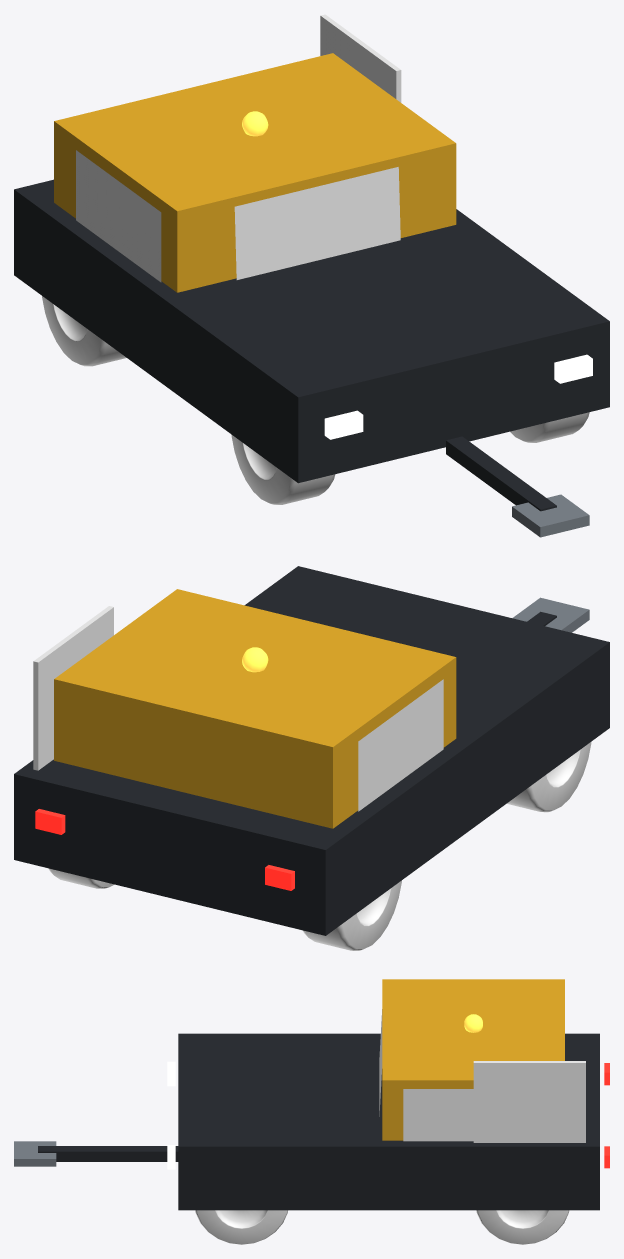
The model's file is equipment--pushbackTug.glb.
3 renders of one model, top to bottom at view 1: azimuth 30°, elevation 25°; view 2: azimuth 150°, elevation 25°; view 3: azimuth 270°, elevation 25°, orthographic. The views are drawn at different scales.
Visible parts, largest first — view 1: pushbackTug:shell, towbarArm, wheelsF, cabDoor, wheelsR, headlights; view 2: pushbackTug:shell, cabDoor, wheelsR, wheelsF, towbarArm, tailLights, beacon; view 3: pushbackTug:shell, cabDoor, towbarArm, wheelsR, wheelsF, headlights.
Part boxes in pixels (x1=…): pushbackTug:shell: x1=14, y1=53, x2=609, y2=483; towbarArm: x1=446, y1=436, x2=589, y2=537; wheelsF: x1=231, y1=412, x2=589, y2=504; cabDoor: x1=320, y1=14, x2=401, y2=102; wheelsR: x1=42, y1=296, x2=126, y2=366; headlights: x1=324, y1=354, x2=592, y2=439; pushbackTug:shell: x1=14, y1=566, x2=609, y2=935; cabDoor: x1=33, y1=606, x2=113, y2=770; wheelsR: x1=48, y1=868, x2=401, y2=950; wheelsF: x1=506, y1=742, x2=591, y2=812; towbarArm: x1=512, y1=597, x2=589, y2=632; tailLights: x1=35, y1=809, x2=294, y2=890; beacon: x1=242, y1=647, x2=268, y2=672; pushbackTug:shell: x1=178, y1=979, x2=599, y2=1210; cabDoor: x1=473, y1=1061, x2=585, y2=1142; towbarArm: x1=14, y1=1141, x2=178, y2=1166; wheelsR: x1=476, y1=1210, x2=569, y2=1244; wheelsF: x1=195, y1=1210, x2=287, y2=1244; headlights: x1=167, y1=1061, x2=175, y2=1169.
Size of the model in its own units: 1.9 by 1.43 by 4.24.
